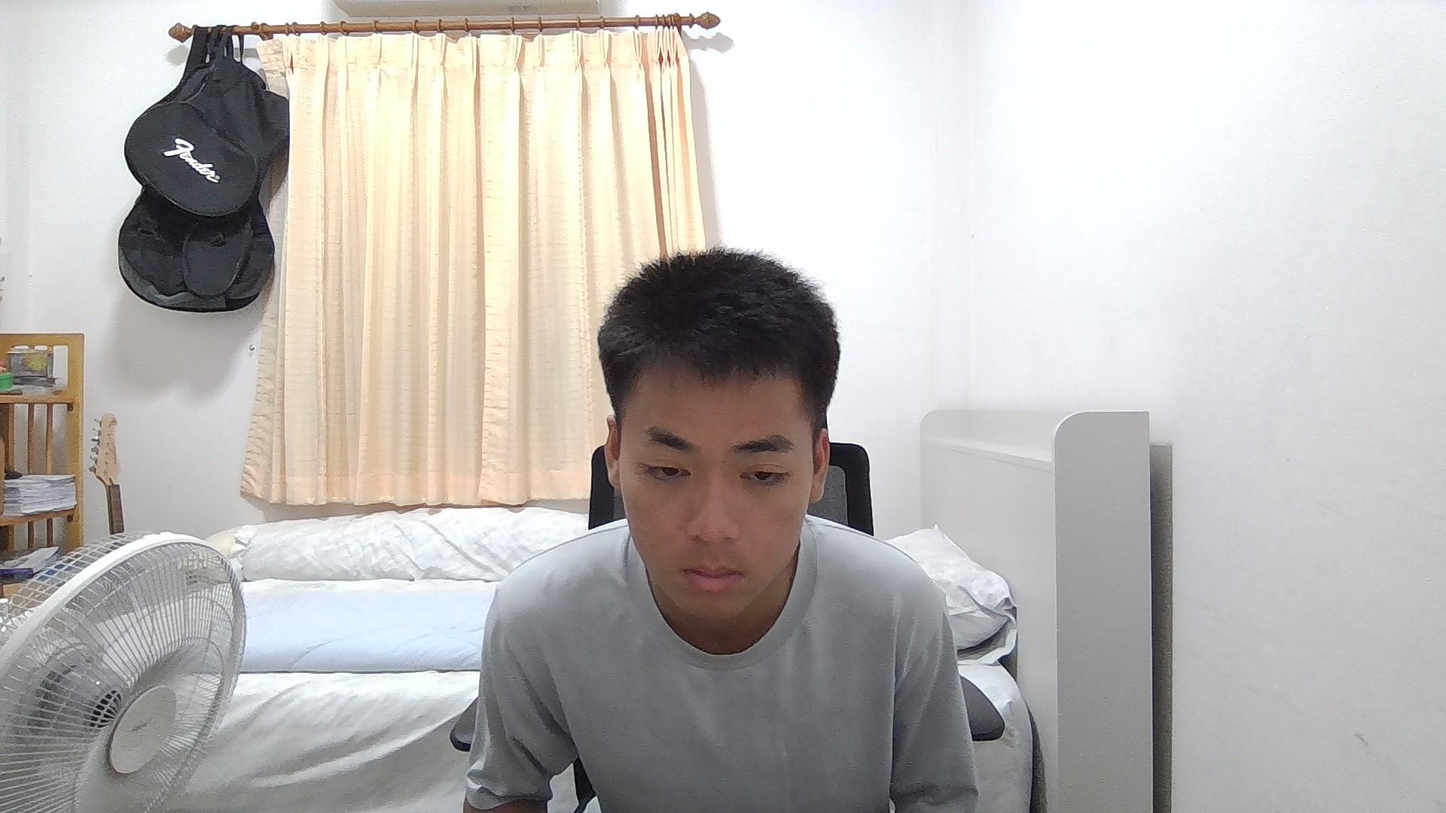BadPosture: (465, 248, 981, 812)
